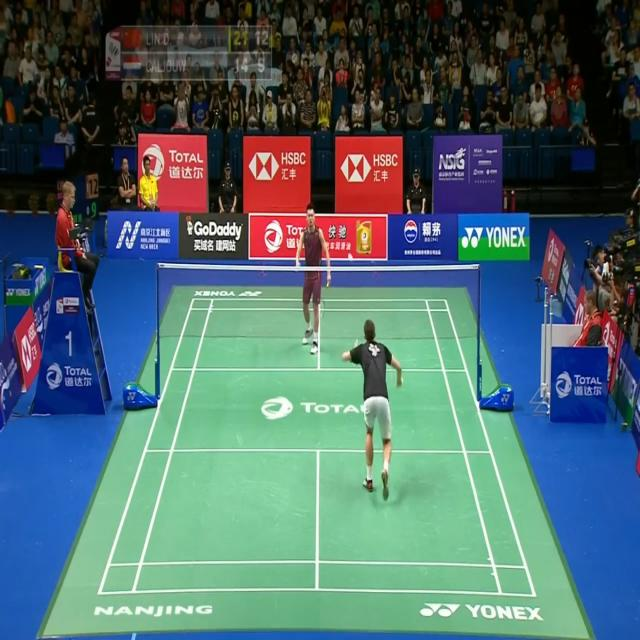Player1: (339, 314, 405, 505)
Player2: (293, 201, 333, 355)
